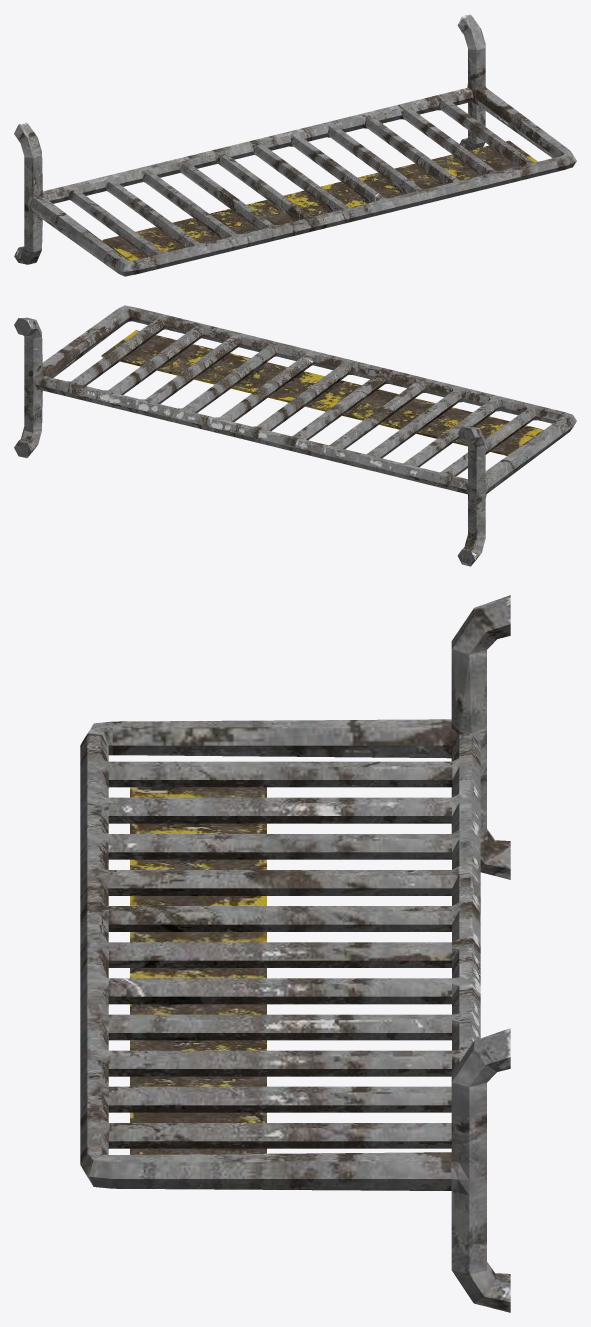
File: guardrail.fbx
3 renders of one model, top to bottom at view 1: azimuth 30°, elevation 25°; view 2: azimuth 150°, elevation 25°; view 3: azimuth 270°, elevation 25°, orthographic. The views are drawn at different scales.
Visible parts, largest first — view 1: node_id6 (×2); view 2: node_id6 (×2); view 3: node_id6 (×2).
Part boxes in pixels (x1=…): node_id6 (×2): x1=14, y1=14, x2=576, y2=276; node_id6 (×2): x1=14, y1=305, x2=576, y2=566; node_id6 (×2): x1=80, y1=595, x2=510, y2=1312.
Bounding box in the file's own units: 0.512 × 0.1465 × 0.2069.
Materials: 2 (2 with a texture image).
